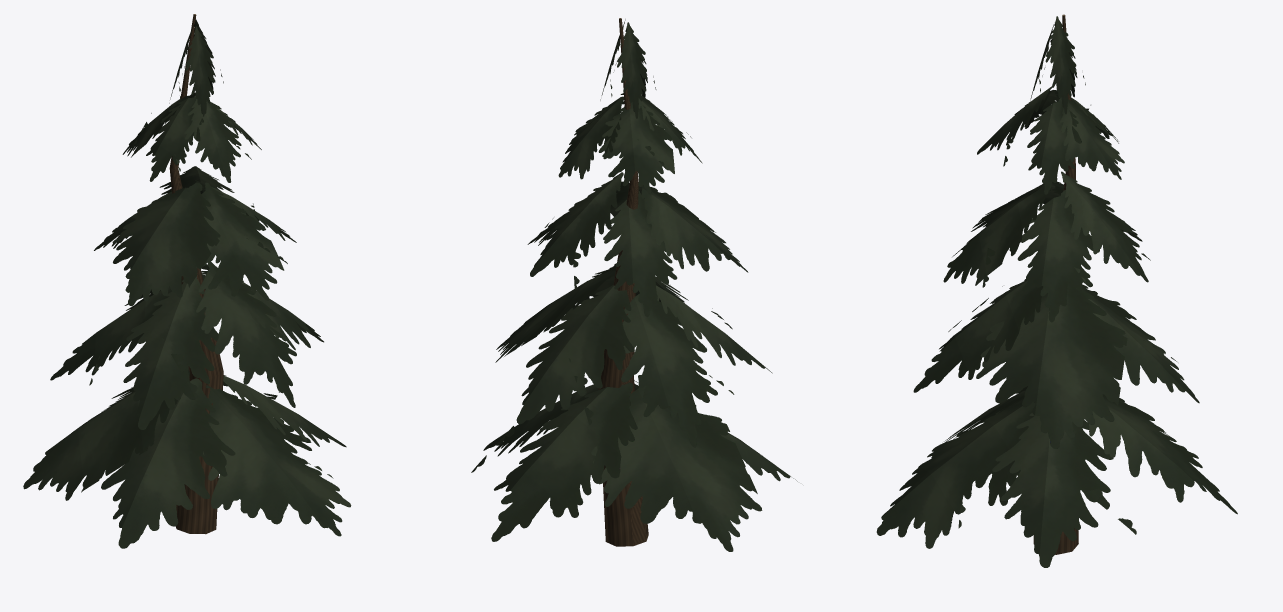
3 renders of one model, left to right at view 1: azimuth 30°, elevation 25°; view 2: azimuth 150°, elevation 25°; view 3: azimuth 270°, elevation 25°, orthographic. The views are drawn at different scales.
Parts seen in each view (by area): view 1: Tapered harvest trunk; view 2: Tapered harvest trunk; view 3: Tapered harvest trunk.
Part boxes in pixels (bbox=[...]): Tapered harvest trunk: bbox=[23, 14, 351, 548]; Tapered harvest trunk: bbox=[471, 18, 797, 551]; Tapered harvest trunk: bbox=[876, 14, 1237, 567].
Size of the model in its own units: 2.03 by 3.11 by 2.24.
Materials: 3 (2 with a texture image).
